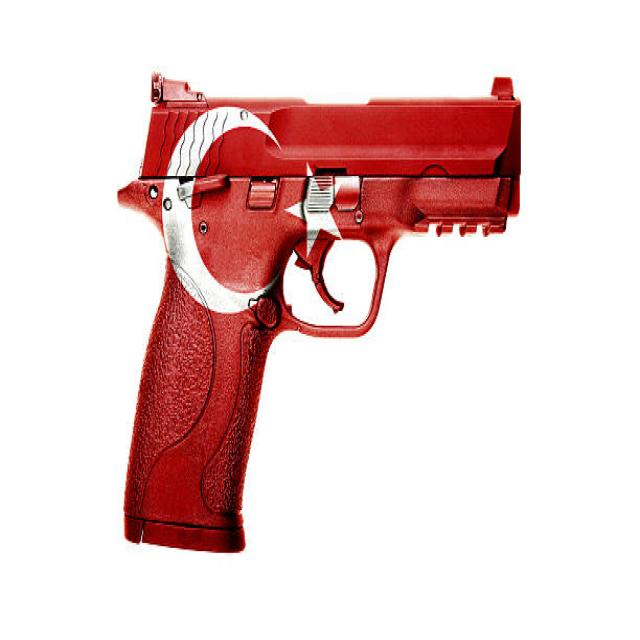pistol: (111, 67, 531, 576)
